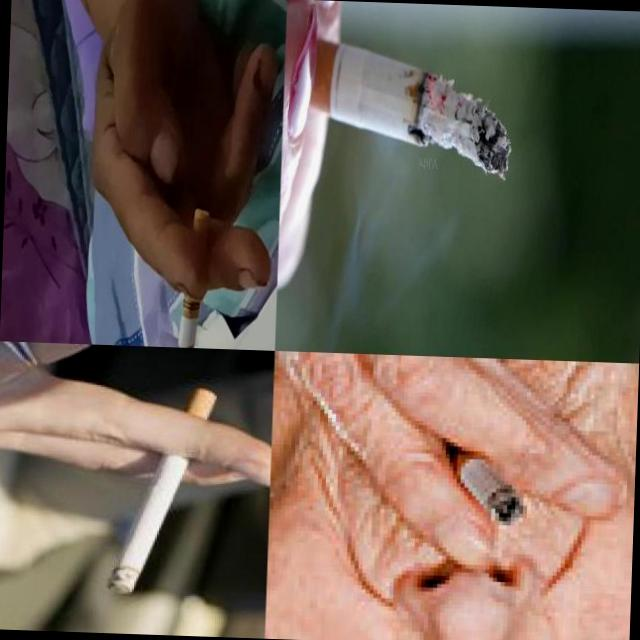smoke: (281, 22, 516, 182), (107, 382, 218, 599), (444, 442, 530, 530), (175, 207, 212, 348)
